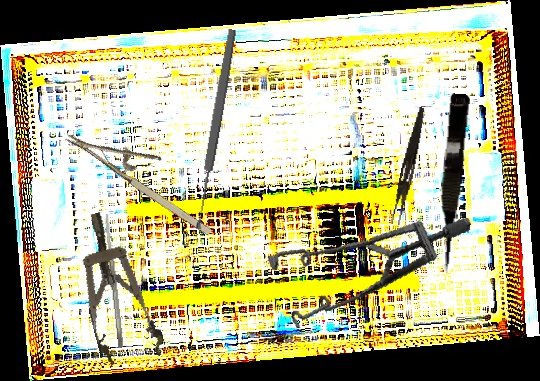Dressing Forceps: (390, 105, 427, 227)
Micro Scissor: (431, 92, 471, 275)
Needle Holder: (65, 105, 229, 241)
Spatula Surgical: (103, 213, 125, 348)
Speculum: (254, 176, 472, 361), (64, 204, 168, 371)
Surgical Spoon: (191, 28, 239, 230)
